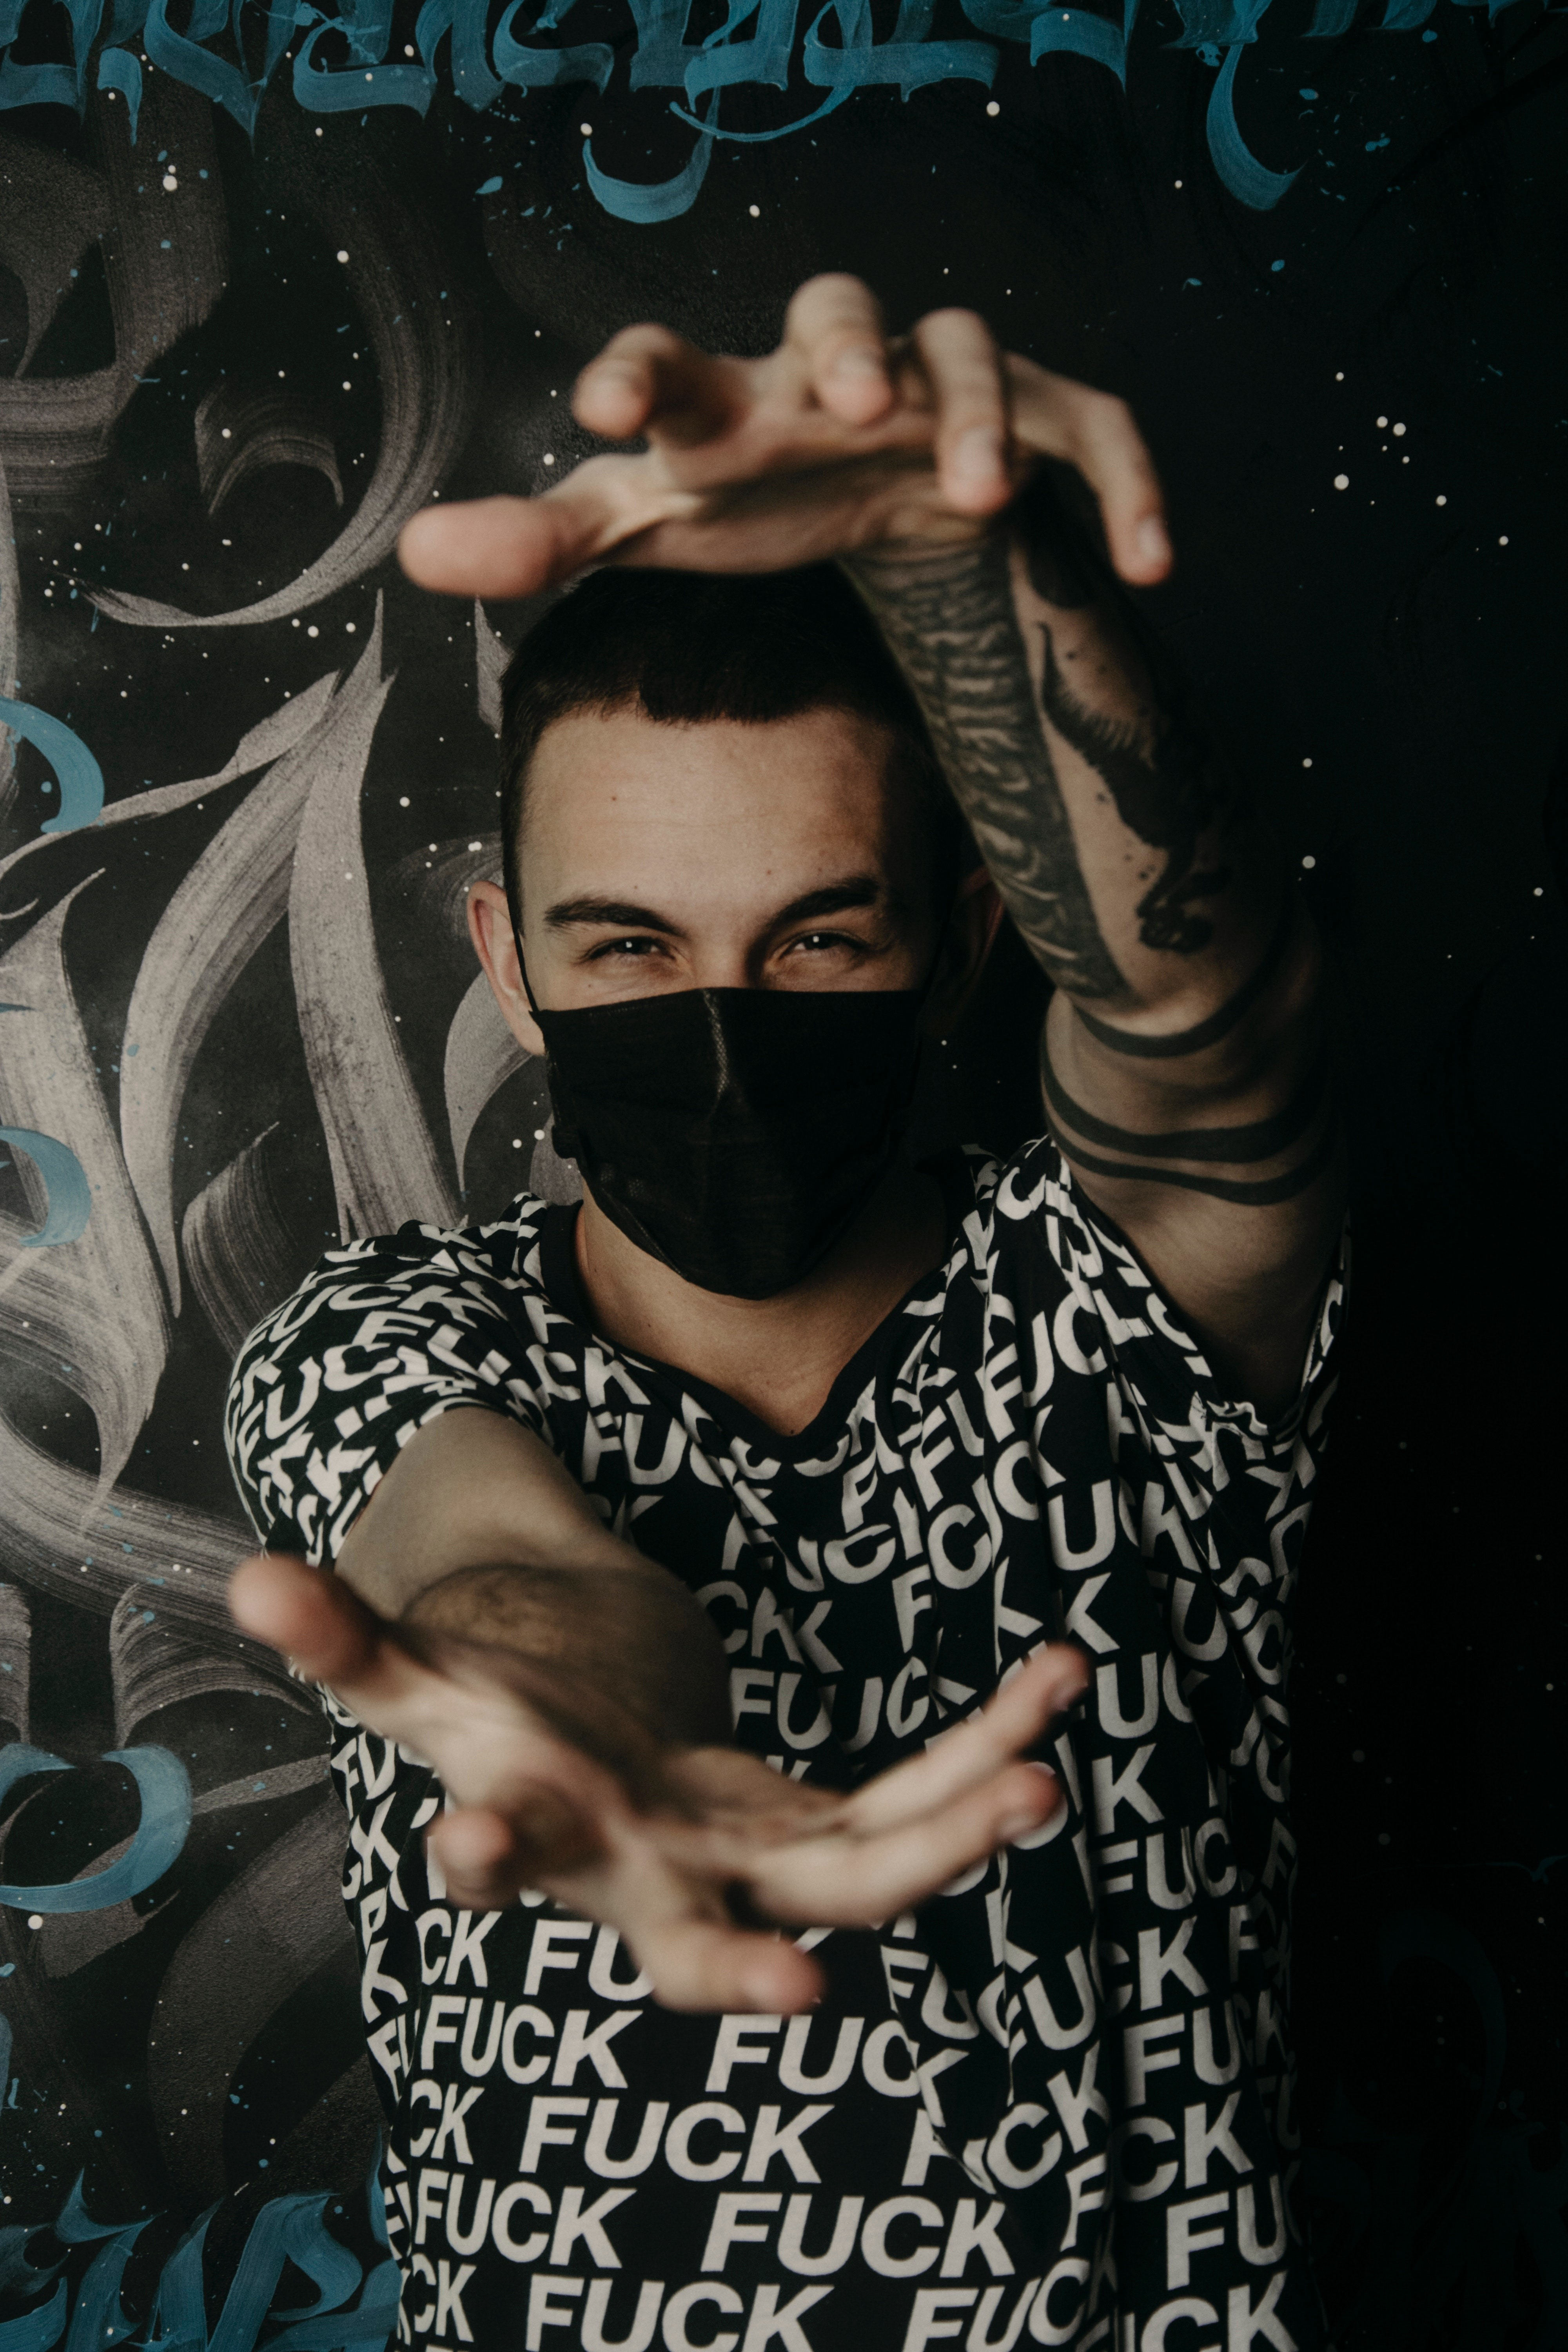face_with_mask: (436, 565, 1000, 1356)
